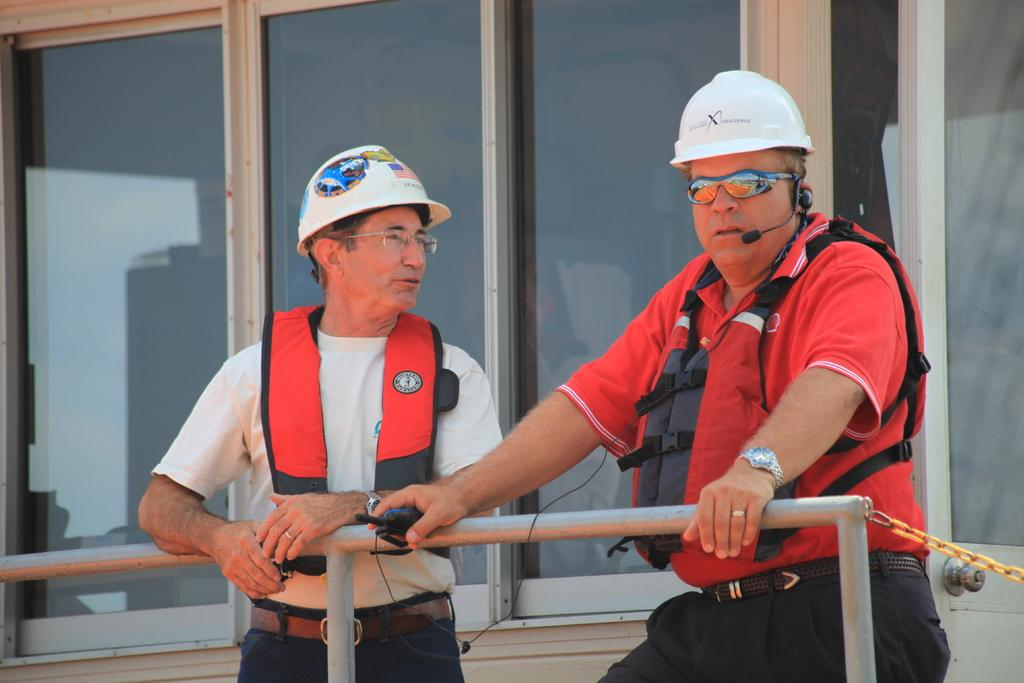helmet: (669, 70, 816, 262), (296, 145, 452, 309)
